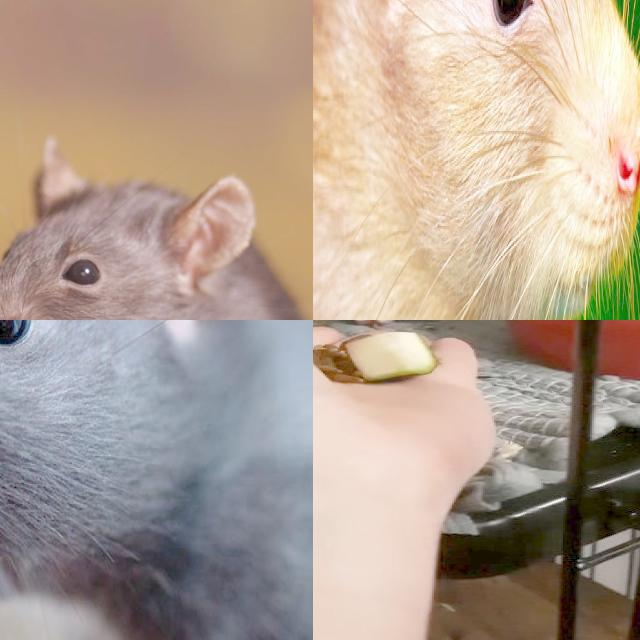rat: (313, 0, 640, 320), (0, 320, 312, 640), (0, 137, 313, 320)
